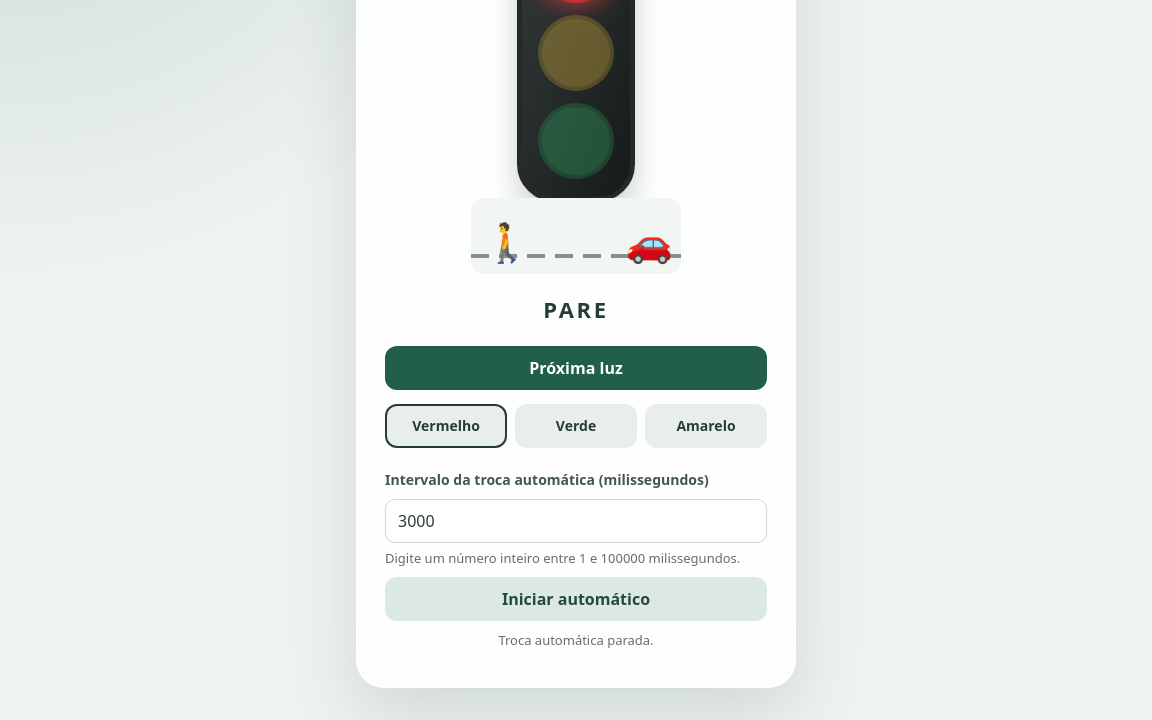
Test: requires a positive integer interval in milliseconds before starting automatic mode
(page scrolled)
Replace the text in the number field labelled "Intervalo da troca automática (milissegundos)" with "0": (576, 521) [385, 499, 767, 543]
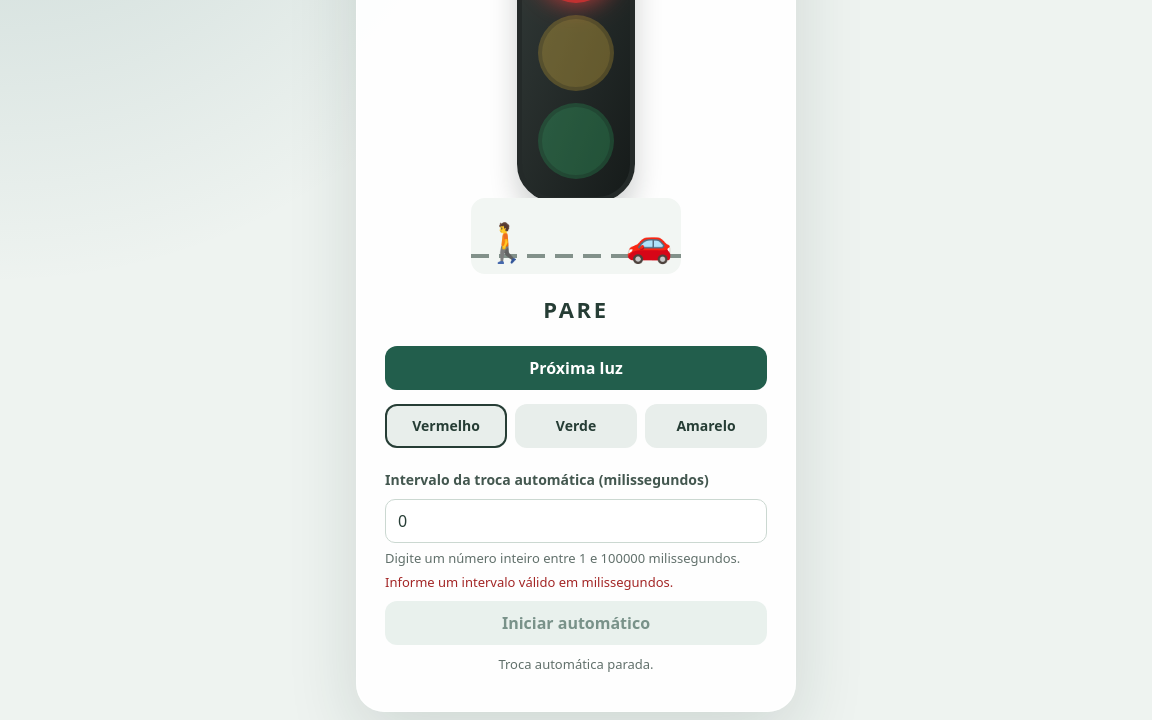
Result: the message "Informe um intervalo válido em milissegundos." is shown at [385, 573, 673, 591]
Result: the button "Iniciar automático" is disabled at [385, 601, 767, 645]
